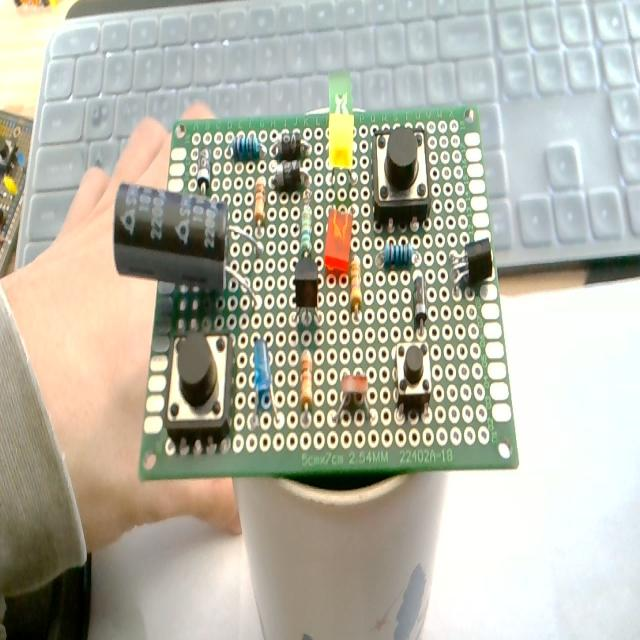Electrolytic capacitor: (109, 175, 262, 308)
cds: (333, 365, 373, 427)
diode: (249, 338, 281, 425), (272, 130, 312, 156), (273, 160, 301, 192), (414, 274, 427, 328), (197, 148, 210, 192)
led: (323, 68, 362, 134), (323, 207, 353, 276), (328, 113, 353, 170)
resistor: (299, 345, 321, 428), (232, 132, 263, 162), (384, 240, 413, 268), (349, 256, 362, 313), (254, 176, 267, 225), (300, 205, 312, 252)
switch: (165, 329, 234, 446), (372, 124, 430, 227), (395, 341, 432, 417)
transistor: (291, 252, 327, 326), (448, 236, 494, 290)
